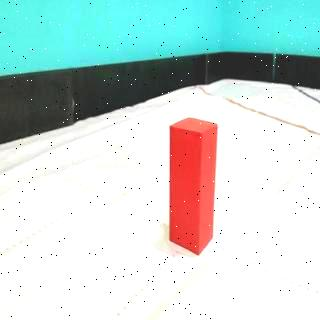redbox: (168, 116, 218, 256)
